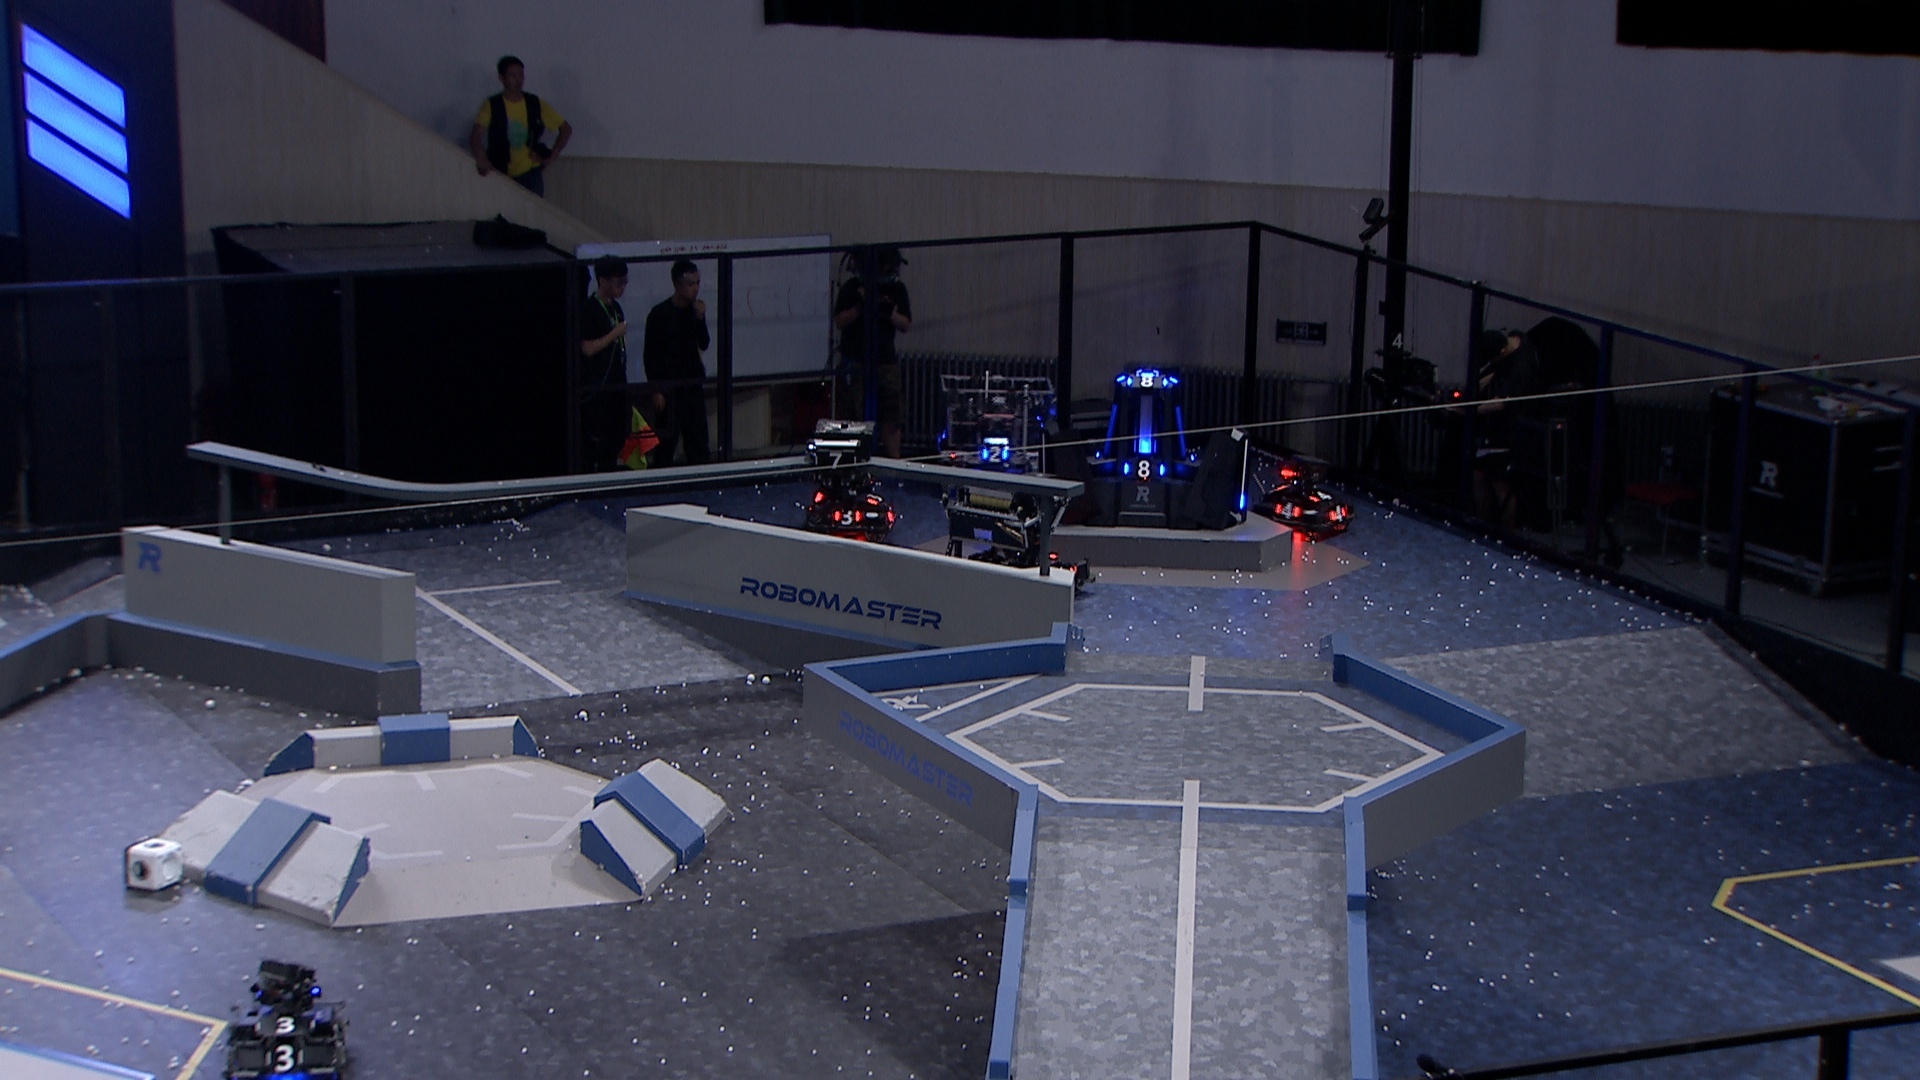armor: (251, 1011, 316, 1036), (264, 1044, 309, 1076), (1172, 401, 1193, 460), (1100, 400, 1121, 458), (1120, 458, 1167, 477), (1122, 368, 1168, 386), (812, 451, 858, 469), (978, 443, 1010, 465), (1275, 498, 1302, 524), (832, 505, 864, 524), (1307, 485, 1335, 504), (328, 1021, 345, 1050), (1329, 500, 1348, 524), (1135, 438, 1153, 458), (866, 491, 885, 505)
base: (1036, 365, 1255, 533)
car: (940, 467, 1098, 595), (223, 959, 352, 1080), (938, 368, 1063, 489), (1258, 452, 1356, 542), (803, 469, 899, 545)
watcher: (804, 413, 884, 513)
